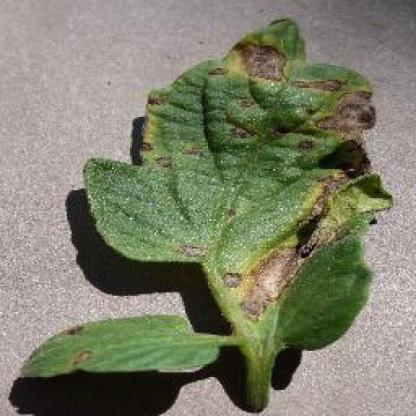Tomato_Blight: (82, 22, 390, 344)
